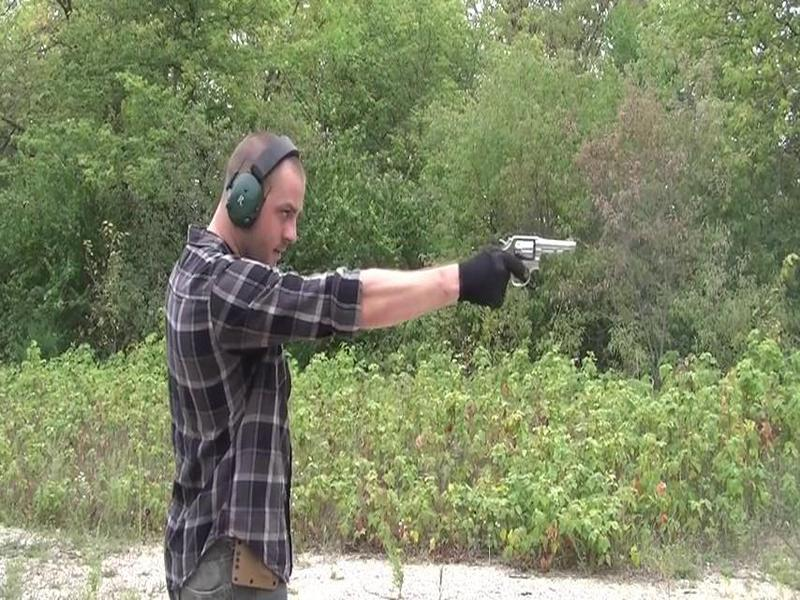Revolver: (481, 221, 595, 301)
